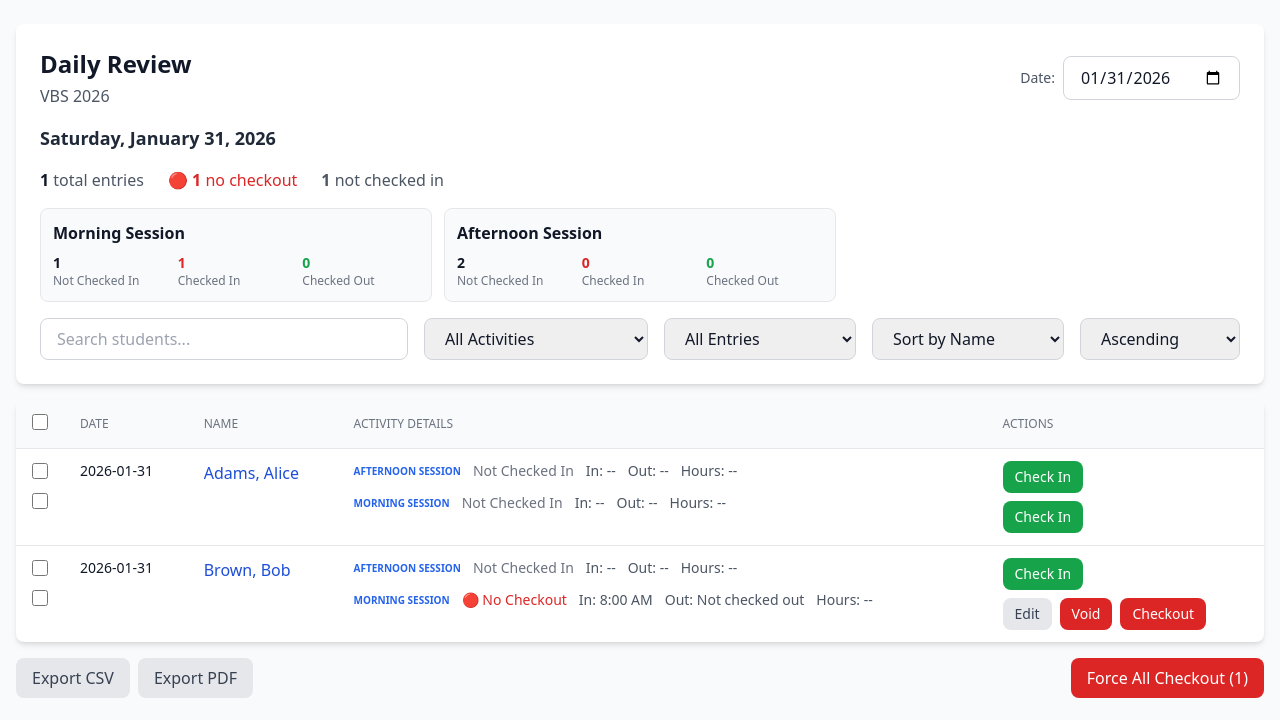
Test: DailyReview › filter options › should keep no checkout separate from not checked in
Select "No Checkout" in the dropdown named "Status filter" at (760, 339), box [664,318,856,360]
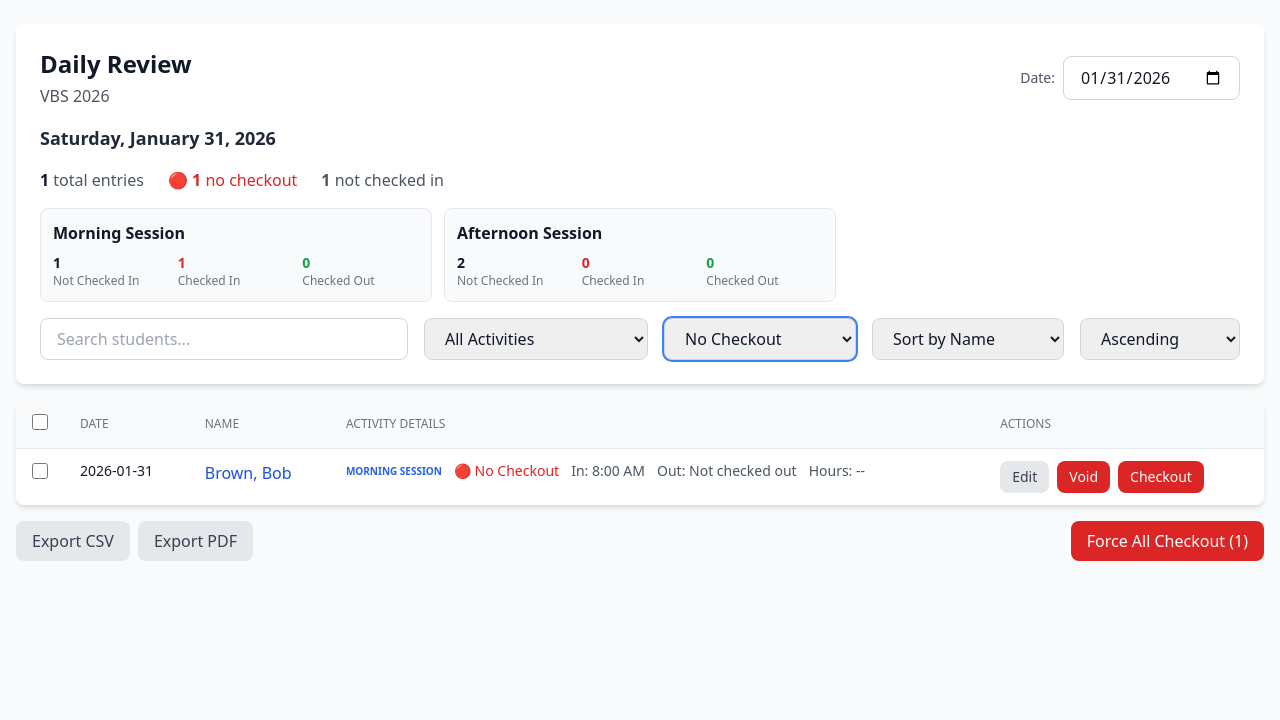
Result: the link "Adams, Alice" is gone
